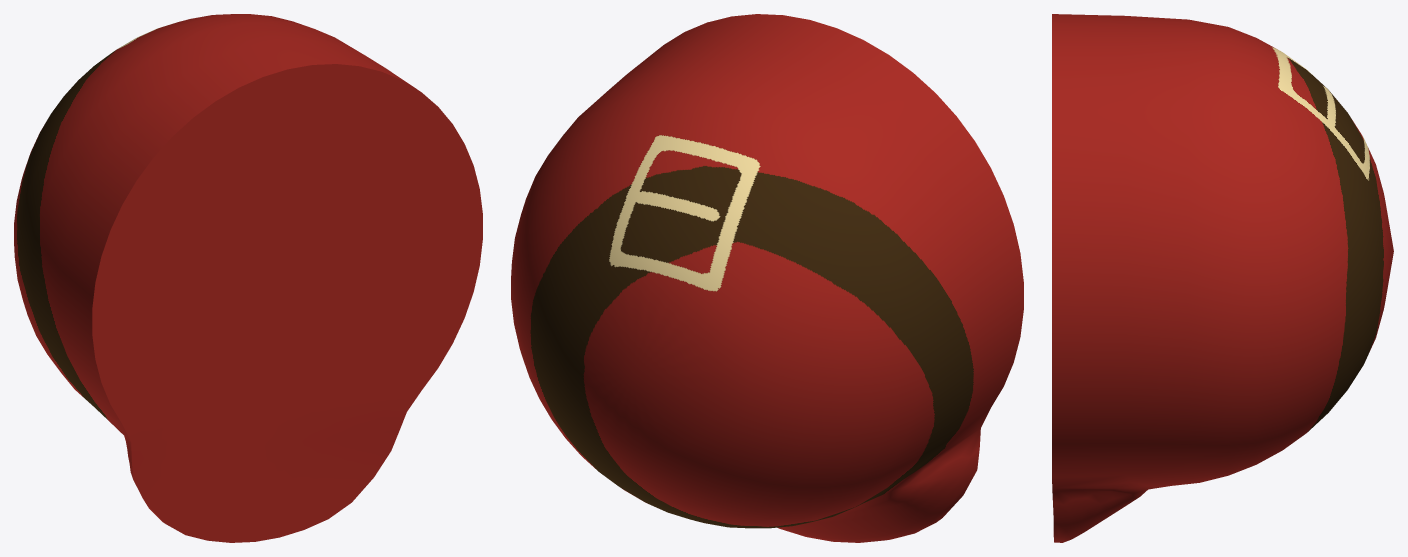
File: LEGS CAMELIA.fbx
The picture shows the model from 3 angles, left to right: view 1: azimuth 30°, elevation 25°; view 2: azimuth 150°, elevation 25°; view 3: azimuth 270°, elevation 25°; orthographic projection. The views are drawn at different scales.
Visible parts, largest first — view 1: _camelialegs; view 2: _camelialegs; view 3: _camelialegs.
Boxes of the visible parts, x1=… form: _camelialegs: x1=14, y1=14, x2=482, y2=542; _camelialegs: x1=511, y1=14, x2=1023, y2=542; _camelialegs: x1=1052, y1=14, x2=1393, y2=542.
Size of the model in its own units: 42.33 by 48.37 by 30.5.
